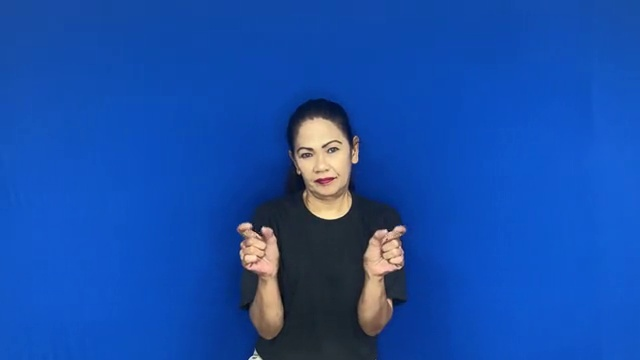crab: (230, 217, 414, 283)
